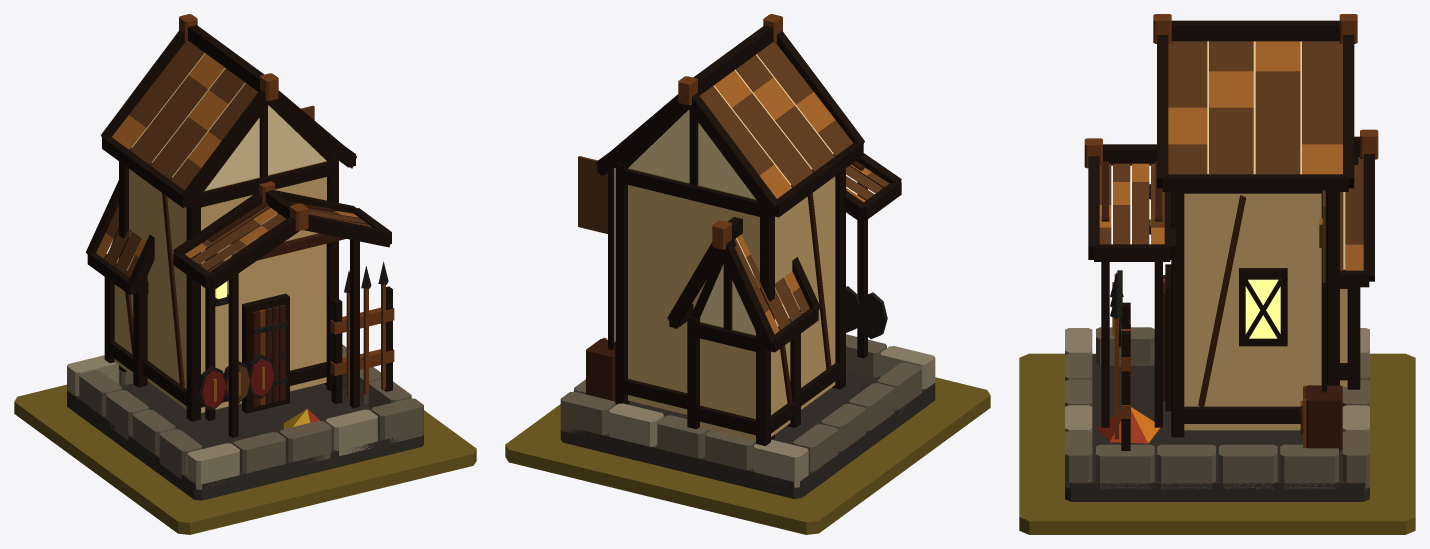
Rendered from armory_t6.glb.
3 views of the same model, side by side, from view 1: azimuth 30°, elevation 25°; view 2: azimuth 150°, elevation 25°; view 3: azimuth 270°, elevation 25° (orthographic). The views are drawn at different scales.
Parts seen in each view (by area): view 1: MMR | armory | T06 Architecture.001, MMR | armory | Tier 06 Ground.001; view 2: MMR | armory | T06 Architecture.001, MMR | armory | Tier 06 Ground.001, MMR | armory | T06 Banner Flag 1.001; view 3: MMR | armory | T06 Architecture.001, MMR | armory | Tier 06 Ground.001, MMR | armory | T06 Autumn Dressing.001.
Boxes of the visible parts, x1=… form: MMR | armory | T06 Architecture.001: x1=67, y1=14, x2=423, y2=500; MMR | armory | Tier 06 Ground.001: x1=14, y1=384, x2=476, y2=534; MMR | armory | T06 Architecture.001: x1=560, y1=14, x2=935, y2=498; MMR | armory | Tier 06 Ground.001: x1=505, y1=377, x2=990, y2=534; MMR | armory | T06 Banner Flag 1.001: x1=578, y1=156, x2=607, y2=233; MMR | armory | T06 Architecture.001: x1=1065, y1=14, x2=1378, y2=501; MMR | armory | Tier 06 Ground.001: x1=1019, y1=353, x2=1415, y2=534; MMR | armory | T06 Autumn Dressing.001: x1=1097, y1=407, x2=1159, y2=443.
Size of the model in its own units: 1.3 by 1.57 by 1.3.
Materials: 2 (1 with a texture image).
